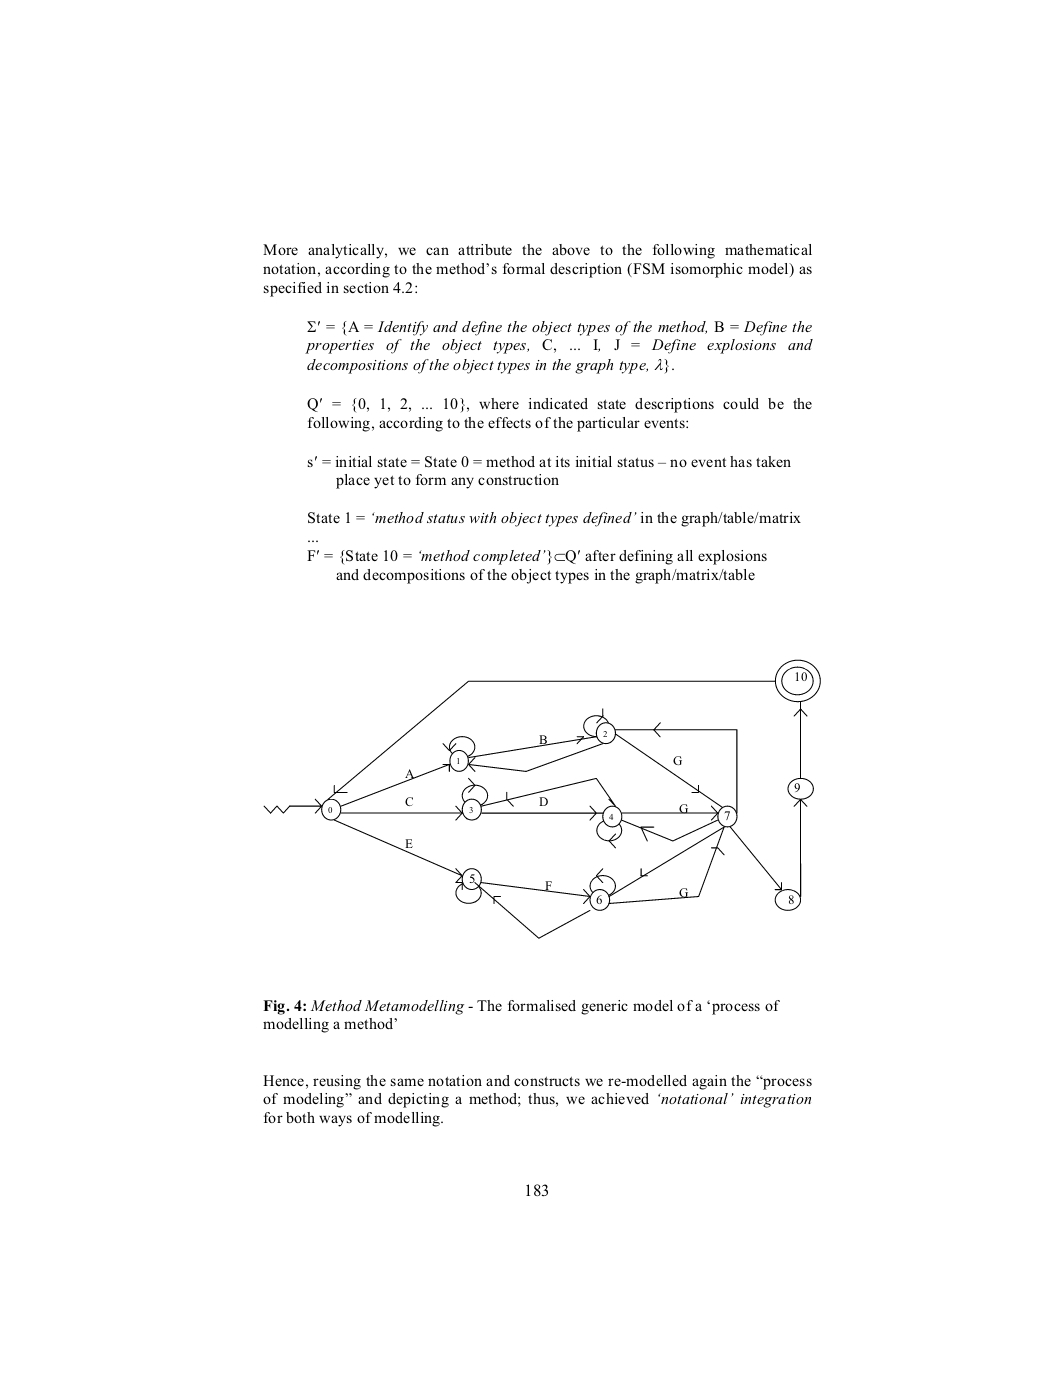figure: (263, 658, 820, 939)
